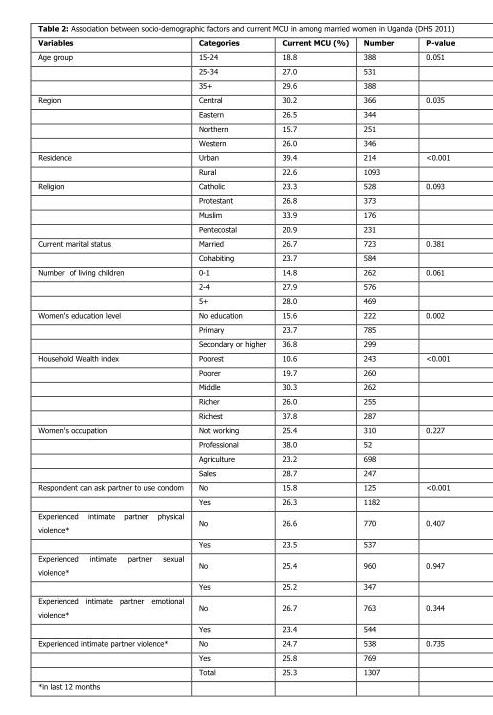table: (37, 37, 454, 675)
table column: (37, 37, 190, 675), (190, 37, 273, 675), (273, 37, 355, 675), (355, 37, 409, 675), (409, 37, 454, 675)
table column header: (37, 37, 454, 48)
table row: (37, 592, 454, 621), (37, 508, 454, 536), (37, 550, 454, 578), (37, 48, 454, 63), (37, 91, 454, 106), (37, 120, 454, 135), (37, 163, 454, 178), (37, 206, 454, 221), (37, 249, 454, 264), (37, 292, 454, 307), (37, 335, 454, 350), (37, 378, 454, 393), (37, 407, 454, 422), (37, 450, 454, 465), (37, 493, 454, 508), (37, 649, 454, 664), (37, 63, 454, 77), (37, 77, 454, 91), (37, 106, 454, 120), (37, 135, 454, 149), (37, 149, 454, 163), (37, 178, 454, 192), (37, 192, 454, 206), (37, 221, 454, 235), (37, 235, 454, 249), (37, 264, 454, 278), (37, 278, 454, 292), (37, 307, 454, 321), (37, 321, 454, 335), (37, 350, 454, 364), (37, 364, 454, 378), (37, 393, 454, 407), (37, 422, 454, 436), (37, 436, 454, 450), (37, 465, 454, 479), (37, 479, 454, 493), (37, 536, 454, 550), (37, 578, 454, 592), (37, 621, 454, 635), (37, 635, 454, 649), (37, 37, 454, 48), (37, 664, 454, 675)
table spanning cell: (37, 350, 190, 422), (37, 91, 190, 149), (37, 178, 190, 235), (37, 422, 190, 479), (37, 48, 190, 91), (37, 264, 190, 307), (37, 307, 190, 350), (37, 592, 190, 635), (37, 508, 190, 550), (37, 550, 190, 592), (37, 635, 190, 675), (37, 149, 190, 178), (37, 235, 190, 264), (37, 479, 190, 508)
